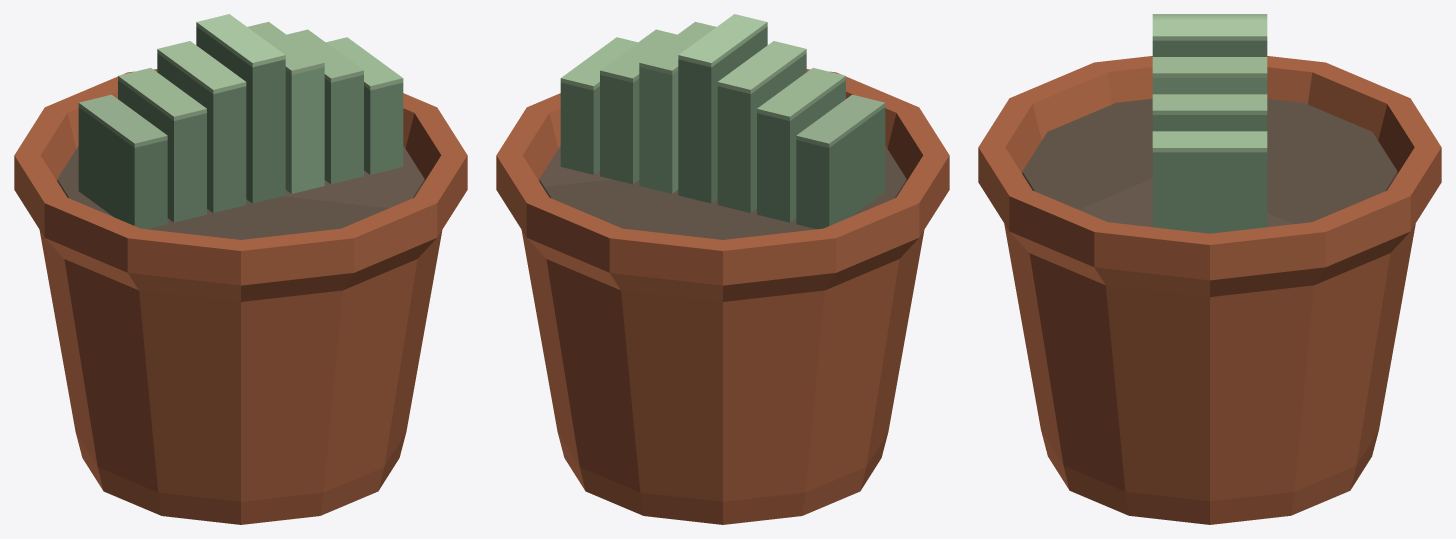
Rendered from new-truncata-haw.glb.
3 views of the same model, side by side, from view 1: azimuth 30°, elevation 25°; view 2: azimuth 150°, elevation 25°; view 3: azimuth 270°, elevation 25° (orthographic). The views are drawn at different scales.
Visible parts, largest first — view 1: new-truncata-haw/review-terra-vessel, new-truncata-haw/review-rooted-soil, new-truncata-haw/fan-thick-leaf-001, new-truncata-haw/fan-thick-leaf-007, new-truncata-haw/fan-thick-leaf-005, new-truncata-haw/fan-thick-leaf-003, new-truncata-haw/fan-thick-leaf-009, new-truncata-haw/fan-thick-leaf-011, new-truncata-haw/fan-thick-leaf-013, new-truncata-haw/flat-leaf-window-008, new-truncata-haw/flat-leaf-window-002, new-truncata-haw/flat-leaf-window-006 (+4 smaller); view 2: new-truncata-haw/review-terra-vessel, new-truncata-haw/review-rooted-soil, new-truncata-haw/fan-thick-leaf-001, new-truncata-haw/fan-thick-leaf-007, new-truncata-haw/fan-thick-leaf-005, new-truncata-haw/fan-thick-leaf-003, new-truncata-haw/fan-thick-leaf-009, new-truncata-haw/fan-thick-leaf-011, new-truncata-haw/fan-thick-leaf-013, new-truncata-haw/flat-leaf-window-008, new-truncata-haw/flat-leaf-window-002, new-truncata-haw/flat-leaf-window-006 (+4 smaller); view 3: new-truncata-haw/review-terra-vessel, new-truncata-haw/review-rooted-soil, new-truncata-haw/fan-thick-leaf-013, new-truncata-haw/flat-leaf-window-008, new-truncata-haw/flat-leaf-window-014, new-truncata-haw/flat-leaf-window-010, new-truncata-haw/flat-leaf-window-012, new-truncata-haw/fan-thick-leaf-007, new-truncata-haw/fan-thick-leaf-009, new-truncata-haw/fan-thick-leaf-011.
Part boxes in pixels (x1=…): new-truncata-haw/review-terra-vessel: x1=14, y1=69, x2=467, y2=524; new-truncata-haw/review-rooted-soil: x1=57, y1=146, x2=424, y2=239; new-truncata-haw/fan-thick-leaf-001: x1=78, y1=107, x2=167, y2=229; new-truncata-haw/fan-thick-leaf-007: x1=196, y1=26, x2=285, y2=203; new-truncata-haw/fan-thick-leaf-005: x1=157, y1=53, x2=246, y2=212; new-truncata-haw/fan-thick-leaf-003: x1=118, y1=80, x2=206, y2=222; new-truncata-haw/fan-thick-leaf-009: x1=285, y1=67, x2=324, y2=193; new-truncata-haw/fan-thick-leaf-011: x1=324, y1=75, x2=363, y2=184; new-truncata-haw/fan-thick-leaf-013: x1=364, y1=82, x2=403, y2=174; new-truncata-haw/flat-leaf-window-008: x1=196, y1=14, x2=285, y2=67; new-truncata-haw/flat-leaf-window-002: x1=78, y1=94, x2=167, y2=147; new-truncata-haw/flat-leaf-window-006: x1=157, y1=41, x2=246, y2=94; new-truncata-haw/review-terra-vessel: x1=496, y1=69, x2=949, y2=524; new-truncata-haw/review-rooted-soil: x1=539, y1=146, x2=906, y2=239; new-truncata-haw/fan-thick-leaf-001: x1=796, y1=107, x2=885, y2=229; new-truncata-haw/fan-thick-leaf-007: x1=678, y1=26, x2=767, y2=203; new-truncata-haw/fan-thick-leaf-005: x1=717, y1=53, x2=806, y2=212; new-truncata-haw/fan-thick-leaf-003: x1=757, y1=80, x2=845, y2=222; new-truncata-haw/fan-thick-leaf-009: x1=639, y1=67, x2=678, y2=193; new-truncata-haw/fan-thick-leaf-011: x1=600, y1=75, x2=639, y2=184; new-truncata-haw/fan-thick-leaf-013: x1=560, y1=82, x2=599, y2=174; new-truncata-haw/flat-leaf-window-008: x1=678, y1=14, x2=767, y2=67; new-truncata-haw/flat-leaf-window-002: x1=796, y1=94, x2=885, y2=147; new-truncata-haw/flat-leaf-window-006: x1=717, y1=41, x2=806, y2=94; new-truncata-haw/review-terra-vessel: x1=978, y1=56, x2=1441, y2=524; new-truncata-haw/review-rooted-soil: x1=1022, y1=98, x2=1397, y2=227; new-truncata-haw/fan-thick-leaf-013: x1=1152, y1=152, x2=1267, y2=233; new-truncata-haw/flat-leaf-window-008: x1=1152, y1=19, x2=1267, y2=40; new-truncata-haw/flat-leaf-window-014: x1=1152, y1=131, x2=1267, y2=152; new-truncata-haw/flat-leaf-window-010: x1=1152, y1=57, x2=1267, y2=77; new-truncata-haw/flat-leaf-window-012: x1=1152, y1=94, x2=1267, y2=114; new-truncata-haw/fan-thick-leaf-007: x1=1152, y1=40, x2=1267, y2=56; new-truncata-haw/fan-thick-leaf-009: x1=1152, y1=78, x2=1267, y2=94; new-truncata-haw/fan-thick-leaf-011: x1=1152, y1=115, x2=1267, y2=131.
Bounding box in the file's own units: 0.19 × 0.194 × 0.19.
Materials: 4 (4 with a texture image).
